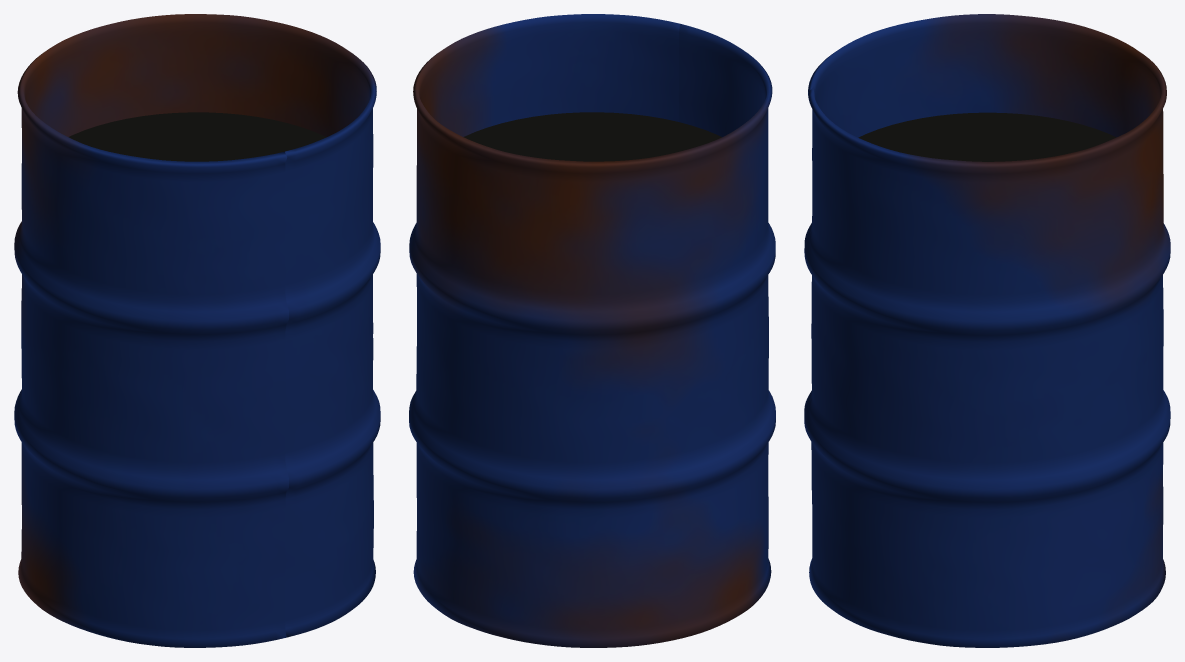
File: barrelOpen_L2.glb
3 renders of one model, left to right at view 1: azimuth 30°, elevation 25°; view 2: azimuth 150°, elevation 25°; view 3: azimuth 270°, elevation 25°, orthographic.
Parts seen in each view (by area): view 1: drum, liquid; view 2: drum, liquid; view 3: drum, liquid.
Part boxes in pixels (x1,y1,x2,y2): drum: (14,14,380,647); liquid: (68,112,326,161); drum: (409,14,775,647); liquid: (463,112,721,161); drum: (804,14,1170,647); liquid: (858,112,1116,161).
Size of the model in its own units: 0.5978 by 0.8777 by 0.5973.
Materials: 2 (1 with a texture image).
